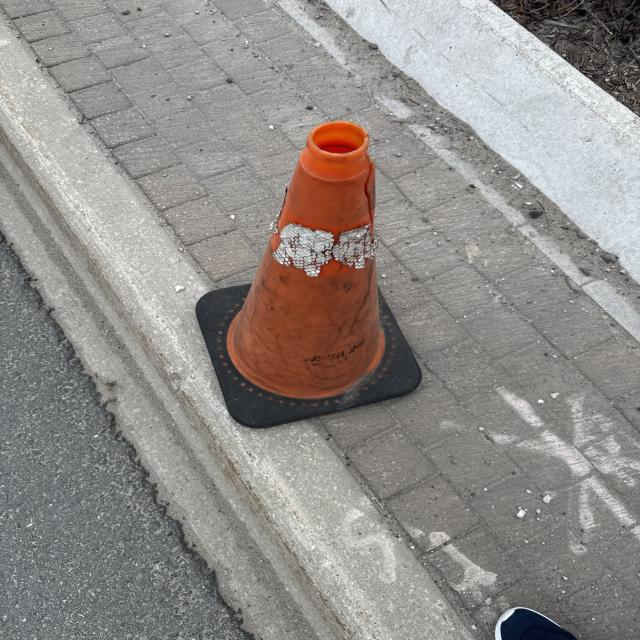Traffic Cone: (195, 120, 428, 428)
